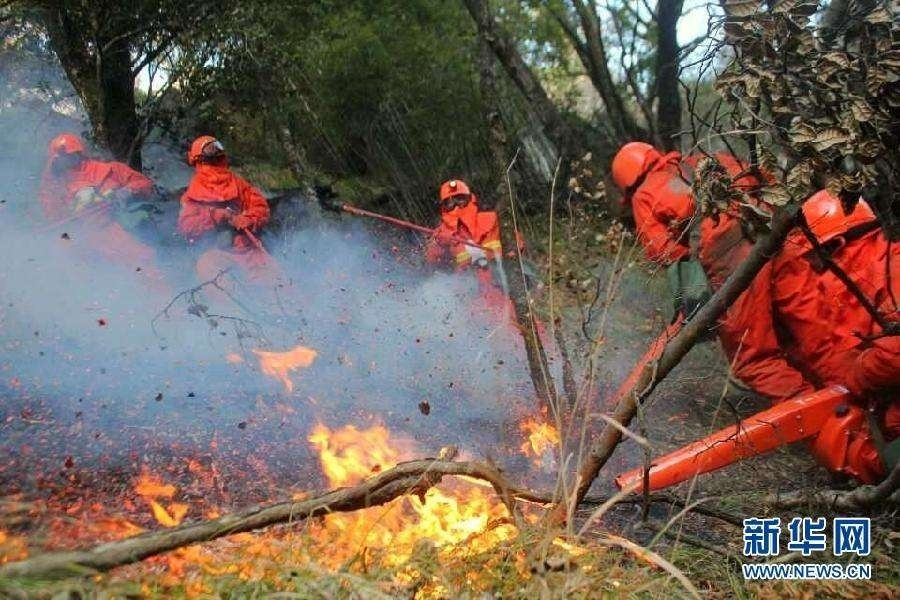fire: (0, 342, 543, 590)
